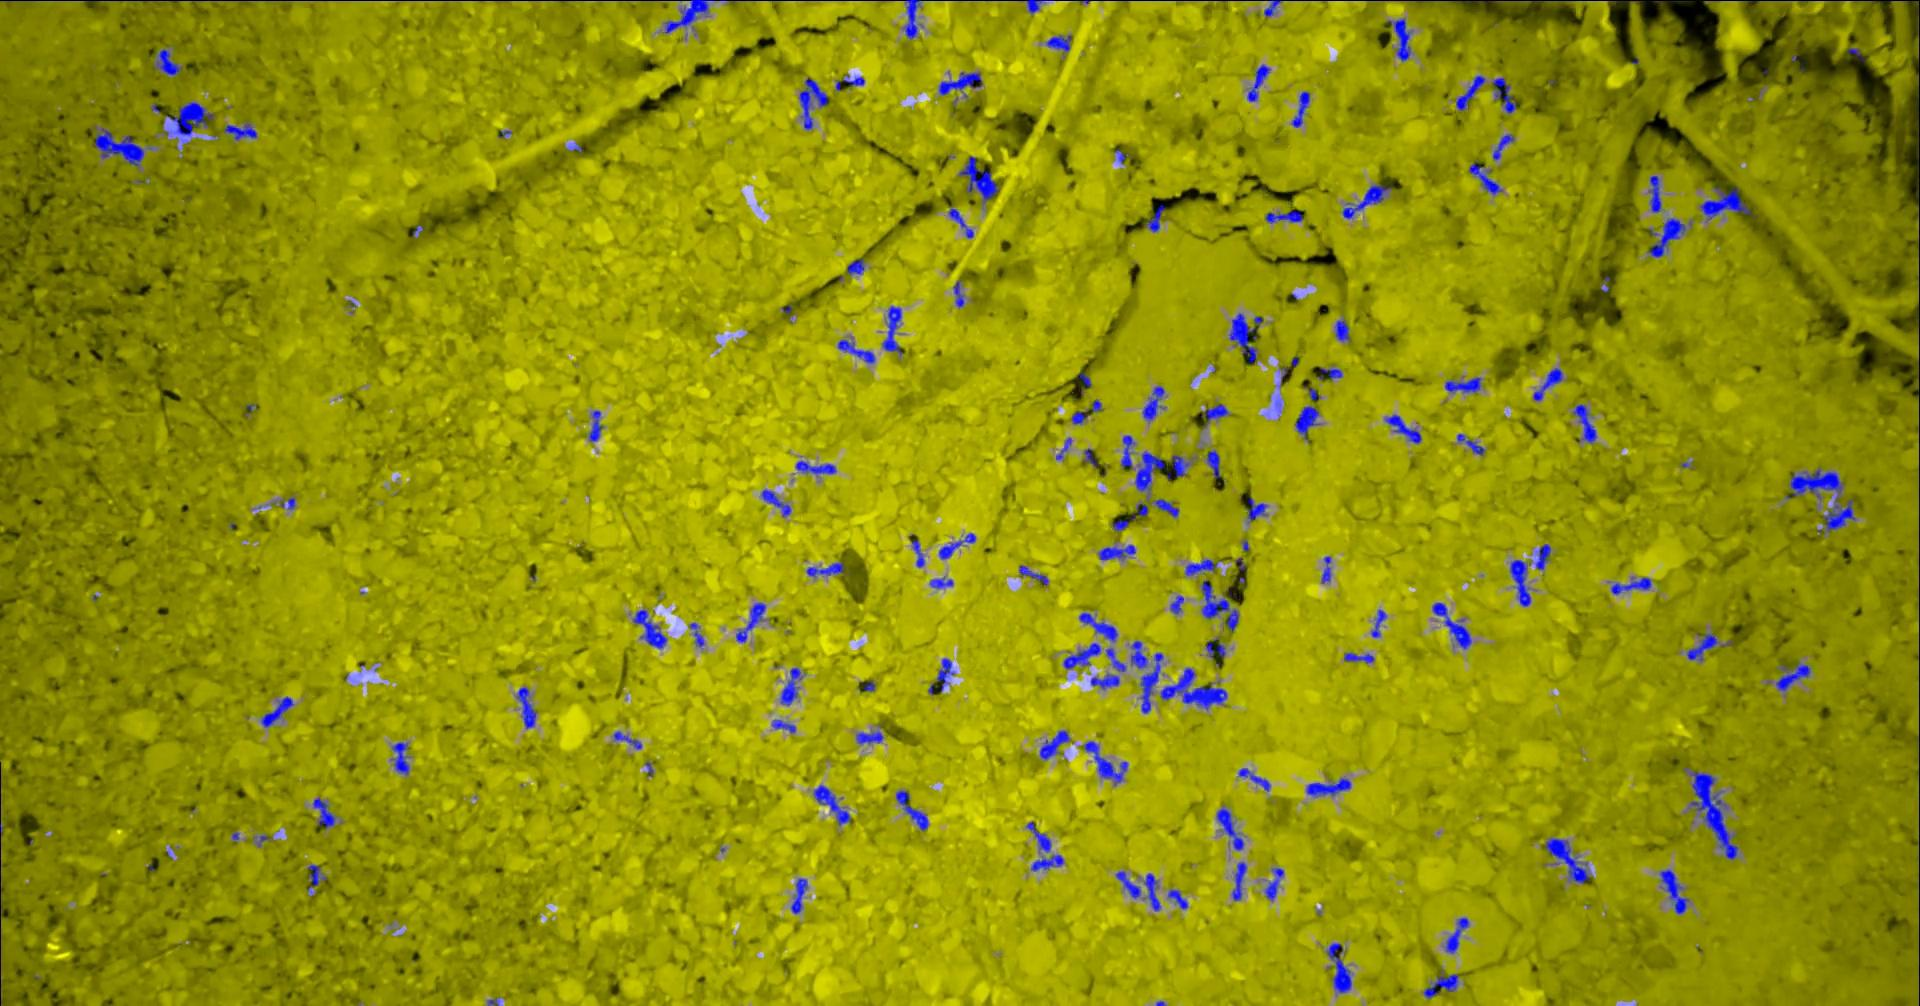ant: (1161, 667, 1228, 709), (665, 0, 737, 32), (1547, 837, 1592, 883), (1084, 741, 1129, 784), (1203, 580, 1239, 633), (95, 127, 145, 165), (1434, 602, 1473, 649), (960, 156, 999, 202), (1343, 184, 1393, 218), (1230, 312, 1263, 362), (1702, 187, 1752, 218), (815, 784, 853, 824), (800, 77, 829, 130), (169, 102, 215, 135), (1650, 217, 1688, 257), (1142, 652, 1164, 713), (634, 608, 668, 648), (897, 790, 930, 829), (1661, 869, 1690, 913), (1137, 451, 1166, 494), (737, 602, 767, 641), (1328, 942, 1352, 992), (1470, 159, 1503, 194), (1218, 807, 1244, 850), (1079, 612, 1119, 641), (1457, 75, 1487, 111), (1387, 414, 1422, 443), (884, 305, 904, 356), (940, 71, 984, 94), (262, 696, 295, 727), (1777, 662, 1812, 690), (1425, 970, 1460, 998), (1389, 18, 1412, 61), (1065, 641, 1102, 668), (1535, 367, 1564, 400), (1511, 559, 1531, 606), (1248, 64, 1272, 102), (782, 667, 806, 705), (839, 339, 876, 363), (940, 533, 977, 558), (1688, 633, 1719, 661), (1575, 404, 1597, 442), (1041, 730, 1070, 760), (518, 686, 538, 728), (1308, 777, 1352, 796), (1297, 406, 1321, 441), (1495, 77, 1517, 113), (1448, 917, 1470, 953), (763, 489, 792, 516), (1073, 399, 1103, 424), (1239, 768, 1272, 791), (950, 208, 975, 238), (1144, 386, 1166, 420), (314, 796, 337, 828), (1029, 821, 1051, 852), (1613, 577, 1653, 594), (157, 48, 182, 75), (1203, 403, 1229, 427), (1117, 871, 1142, 898), (1293, 91, 1310, 127), (905, 0, 922, 38), (1145, 873, 1162, 909), (1266, 868, 1285, 899), (1458, 433, 1486, 455), (1020, 565, 1049, 586), (1446, 376, 1482, 392), (392, 741, 410, 774), (792, 878, 809, 913), (1145, 203, 1166, 231), (309, 864, 329, 892), (1100, 544, 1137, 559), (808, 561, 844, 577), (1234, 861, 1248, 901), (938, 658, 955, 691), (1032, 854, 1065, 870), (1248, 495, 1269, 522), (615, 730, 643, 749), (1186, 559, 1218, 575), (1168, 455, 1190, 479), (1495, 133, 1515, 159), (797, 460, 837, 473), (1131, 640, 1149, 668), (1107, 647, 1128, 671), (226, 123, 258, 138), (1651, 175, 1663, 212), (1267, 210, 1304, 222), (1123, 434, 1137, 467), (837, 75, 866, 90), (1092, 673, 1121, 688), (1156, 498, 1180, 516), (590, 410, 604, 441), (1373, 608, 1388, 636), (1537, 542, 1552, 569), (1208, 450, 1222, 478), (1048, 36, 1073, 51), (1170, 889, 1189, 909), (1027, 0, 1057, 13), (1208, 638, 1227, 657), (1057, 437, 1073, 459), (913, 539, 926, 567), (691, 622, 705, 647), (1336, 319, 1351, 340), (1345, 652, 1377, 662), (858, 730, 884, 743), (1131, 502, 1149, 520), (773, 719, 797, 732), (1265, 0, 1283, 17), (848, 258, 866, 274), (931, 575, 954, 588), (955, 279, 965, 307), (1171, 594, 1185, 614), (1321, 367, 1343, 379), (1084, 448, 1098, 466), (1323, 556, 1332, 583), (1079, 372, 1093, 389), (281, 497, 296, 509), (1114, 520, 1130, 531), (1449, 0, 1523, 1)
